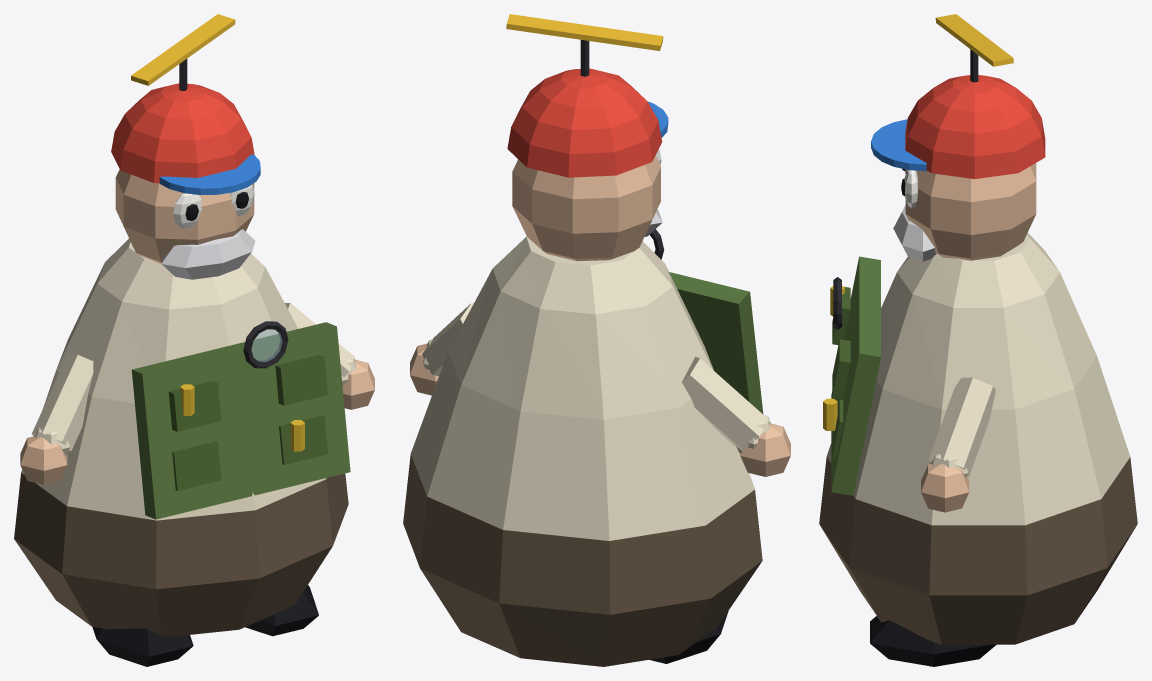
Rendered from npc_don_cucho.glb.
3 renders of one model, left to right at view 1: azimuth 30°, elevation 25°; view 2: azimuth 150°, elevation 25°; view 3: azimuth 270°, elevation 25°, orthographic. The views are drawn at different scales.
Visible parts, largest first — view 1: body_cucho_pants, body_cucho_shirt, vest_cucho_vest, cap_cucho_cap, pockets_cucho_pocket, head_skin_cucho, arms_cucho_shirt, legs_black, arms_skin_cucho, beard_cucho_beard, propeller_cucho_blade, cap_cucho_cap_b (+3 smaller); view 2: body_cucho_shirt, body_cucho_pants, cap_cucho_cap, head_skin_cucho, vest_cucho_vest, arms_cucho_shirt, arms_skin_cucho, propeller_cucho_blade, legs_black; view 3: body_cucho_shirt, body_cucho_pants, cap_cucho_cap, head_skin_cucho, vest_cucho_vest, arms_cucho_shirt, legs_black, arms_skin_cucho, pockets_cucho_pocket, cap_cucho_cap_b, propeller_cucho_blade, beard_cucho_beard.
Part boxes in pixels (<box>): body_cucho_pants: <box>14,473,348,636</box>; body_cucho_shirt: <box>21,238,326,520</box>; vest_cucho_vest: <box>131,322,350,519</box>; cap_cucho_cap: <box>111,83,254,183</box>; pockets_cucho_pocket: <box>168,355,327,490</box>; head_skin_cucho: <box>115,169,254,263</box>; arms_cucho_shirt: <box>32,303,356,455</box>; legs_black: <box>92,585,318,666</box>; arms_skin_cucho: <box>20,360,374,484</box>; beard_cucho_beard: <box>161,229,255,279</box>; propeller_cucho_blade: <box>131,14,235,85</box>; cap_cucho_cap_b: <box>159,154,260,195</box>; body_cucho_shirt: <box>410,236,754,540</box>; body_cucho_pants: <box>403,454,762,666</box>; cap_cucho_cap: <box>507,68,662,177</box>; head_skin_cucho: <box>512,155,660,261</box>; vest_cucho_vest: <box>669,272,763,414</box>; arms_cucho_shirt: <box>422,303,770,452</box>; arms_skin_cucho: <box>410,343,790,476</box>; propeller_cucho_blade: <box>506,14,663,50</box>; legs_black: <box>649,611,728,663</box>; body_cucho_shirt: <box>826,233,1130,525</box>; body_cucho_pants: <box>819,457,1137,644</box>; cap_cucho_cap: <box>905,75,1045,178</box>; head_skin_cucho: <box>905,163,1036,260</box>; vest_cucho_vest: <box>831,256,880,495</box>; arms_cucho_shirt: <box>928,377,995,477</box>; legs_black: <box>870,616,996,666</box>; arms_skin_cucho: <box>921,463,969,512</box>; pockets_cucho_pocket: <box>832,286,850,458</box>; cap_cucho_cap_b: <box>871,119,926,171</box>; propeller_cucho_blade: <box>935,14,1013,66</box>; beard_cucho_beard: <box>893,205,936,261</box>.
Size of the model in its own units: 1.13 by 1.78 by 0.86.
